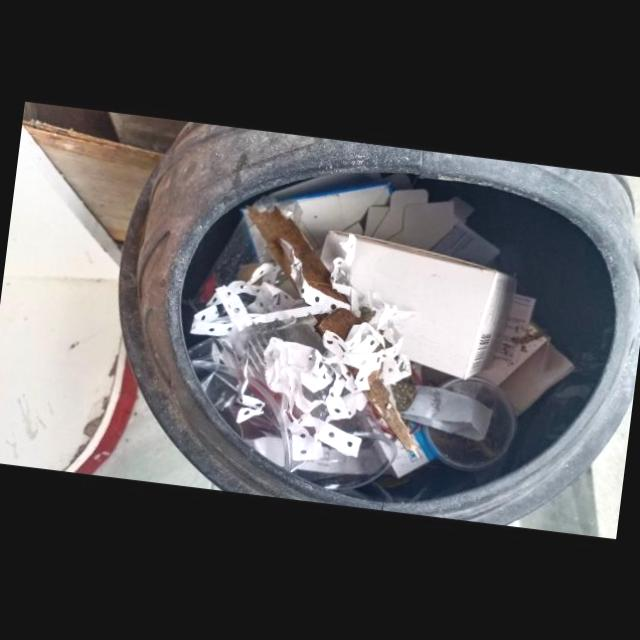carton: (321, 231, 517, 379)
